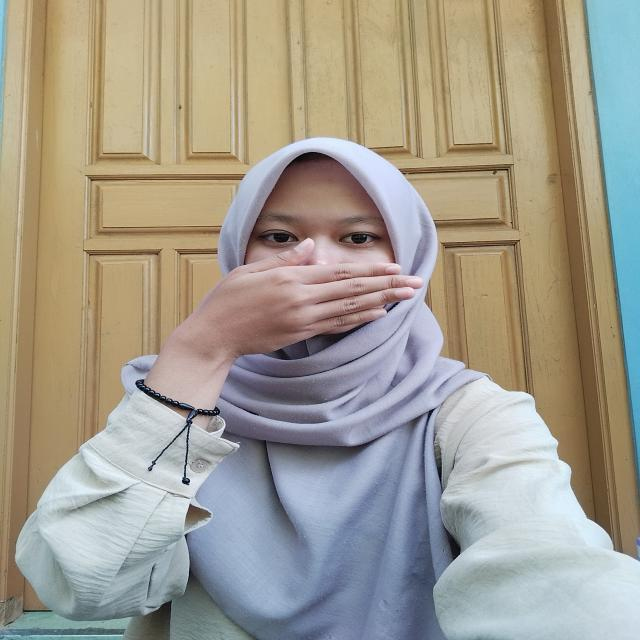buruk: (153, 228, 443, 358)
